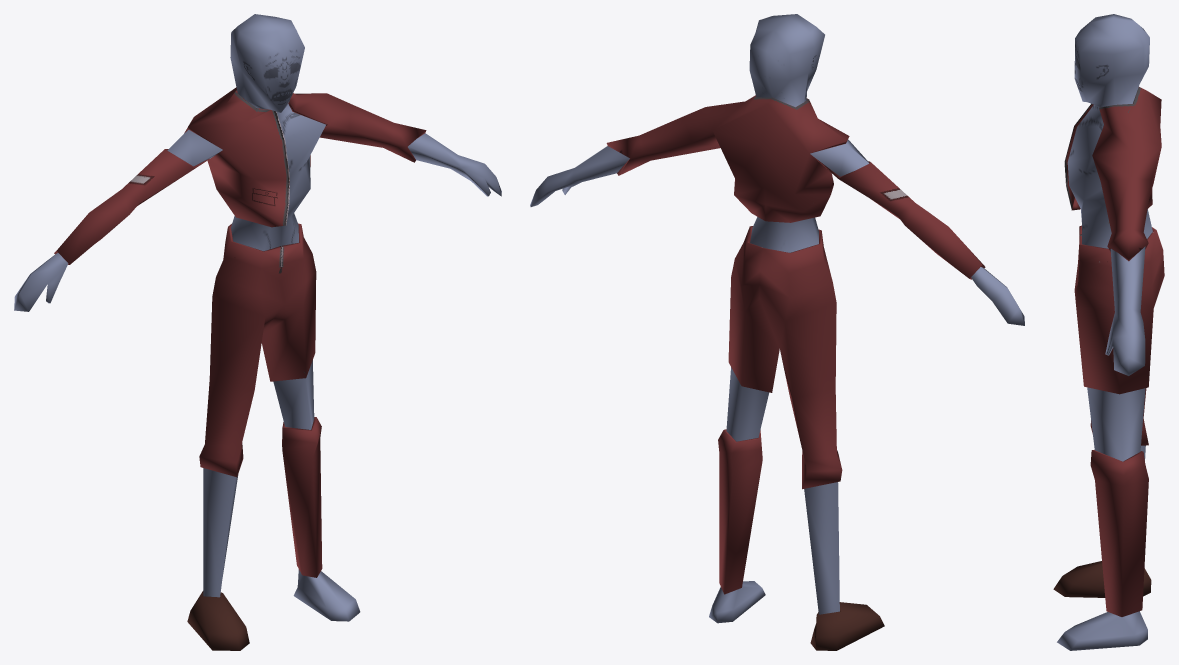
Rendered from CriaturaAgustin.fbx.
3 views of the same model, side by side, from view 1: azimuth 30°, elevation 25°; view 2: azimuth 150°, elevation 25°; view 3: azimuth 270°, elevation 25° (orthographic).
Parts seen in each view (by area): view 1: HumanoidBase_NotOverlapping.010, HumanoidBase_NotOverlapping.011, HumanoidBase_NotOverlapping.012; view 2: HumanoidBase_NotOverlapping.010, HumanoidBase_NotOverlapping.011, HumanoidBase_NotOverlapping.012; view 3: HumanoidBase_NotOverlapping.010, HumanoidBase_NotOverlapping.011, HumanoidBase_NotOverlapping.012.
Boxes of the visible parts, x1=… form: HumanoidBase_NotOverlapping.010: x1=54, y1=87, x2=426, y2=577; HumanoidBase_NotOverlapping.011: x1=14, y1=14, x2=501, y2=621; HumanoidBase_NotOverlapping.012: x1=187, y1=591, x2=249, y2=650; HumanoidBase_NotOverlapping.010: x1=606, y1=95, x2=985, y2=594; HumanoidBase_NotOverlapping.011: x1=530, y1=14, x2=1024, y2=623; HumanoidBase_NotOverlapping.012: x1=810, y1=602, x2=884, y2=650; HumanoidBase_NotOverlapping.010: x1=1064, y1=87, x2=1164, y2=616; HumanoidBase_NotOverlapping.011: x1=1057, y1=14, x2=1152, y2=650; HumanoidBase_NotOverlapping.012: x1=1053, y1=561, x2=1151, y2=597.
Size of the model in its own units: 154 by 180 by 30.41.
3 materials, 2 textured.
